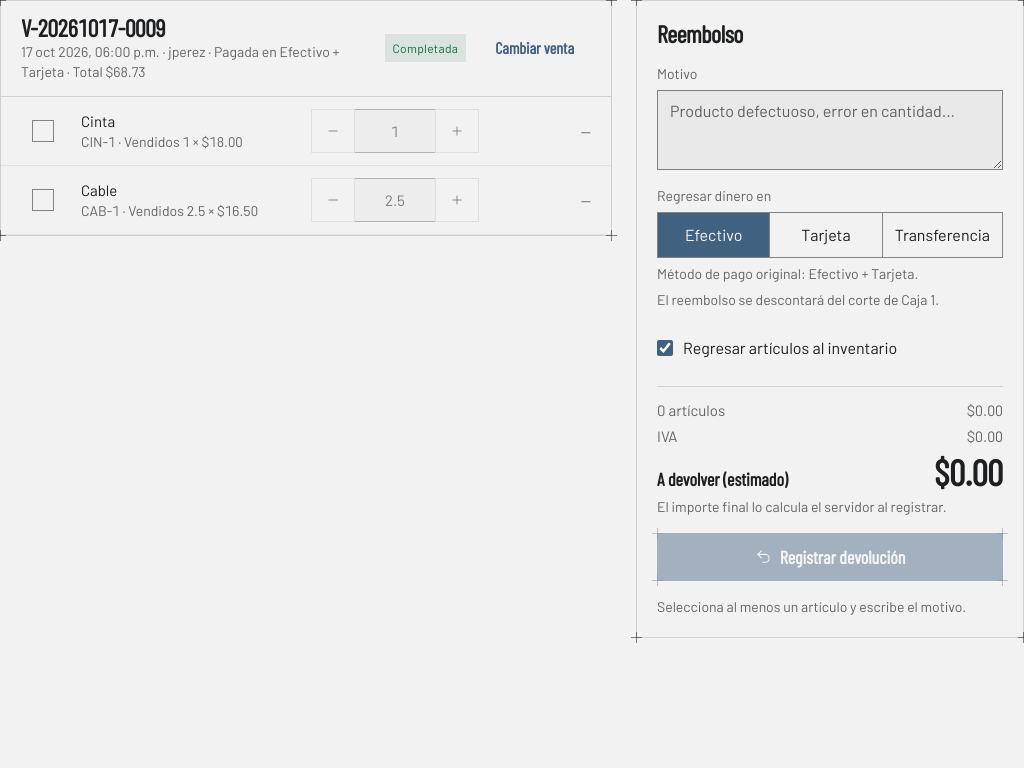
ReturnWorkspace › el estimado coincide con el reembolso del servidor
This screenshot has width=1024, height=768.
Click the checkbox named "Incluir Cinta".
click(43, 131)  # box [21,109,65,153]
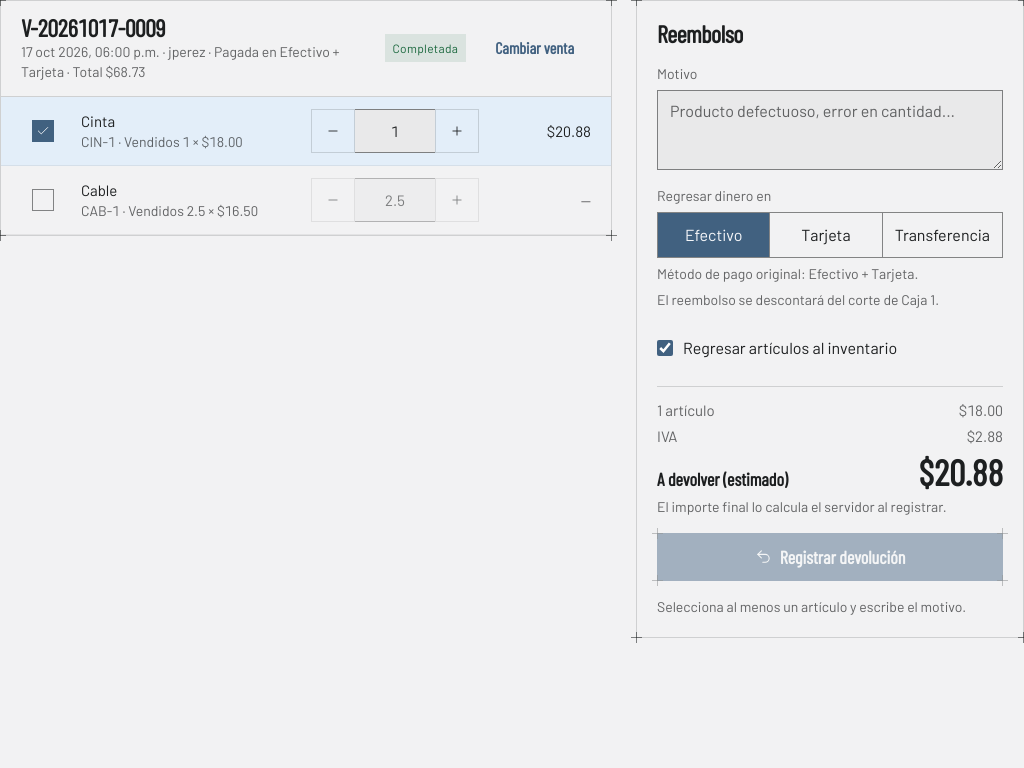
Click the checkbox named "Incluir Cable".
click(43, 200)  # box [21,178,65,222]
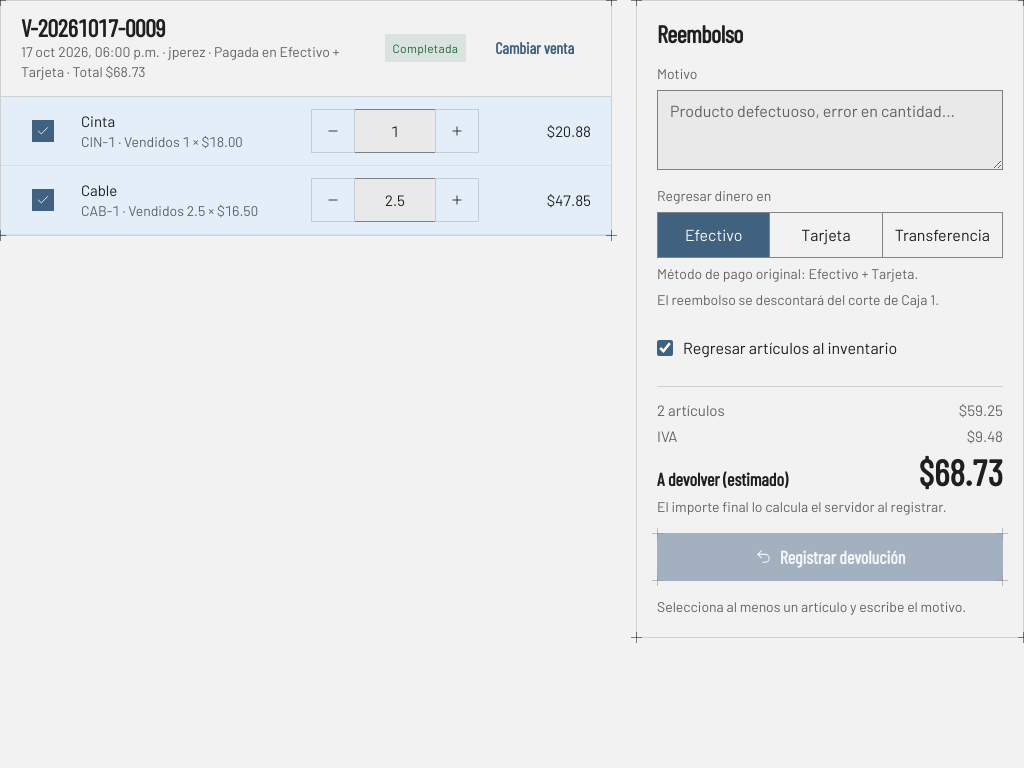
Replace the text in the number field named "Cantidad a devolver de Cable" with "1.25" at {"x": 395, "y": 200}, box [355,178,435,222]
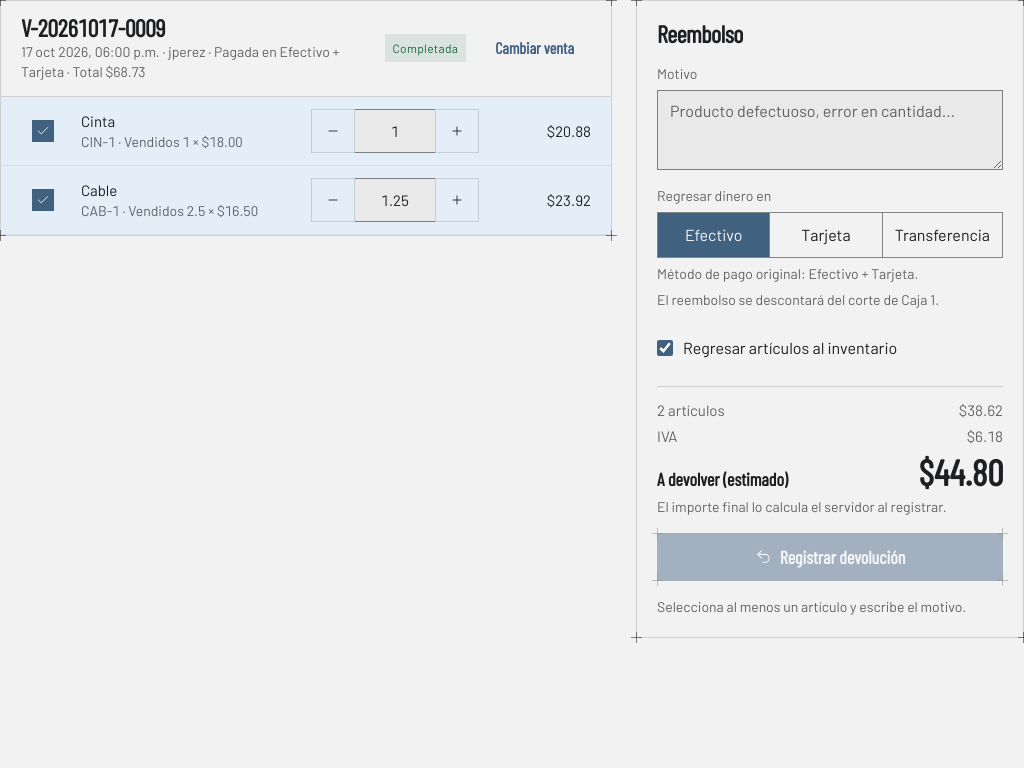
expect the text "$44.80" is shown: met, box [919,452,1003,492]
